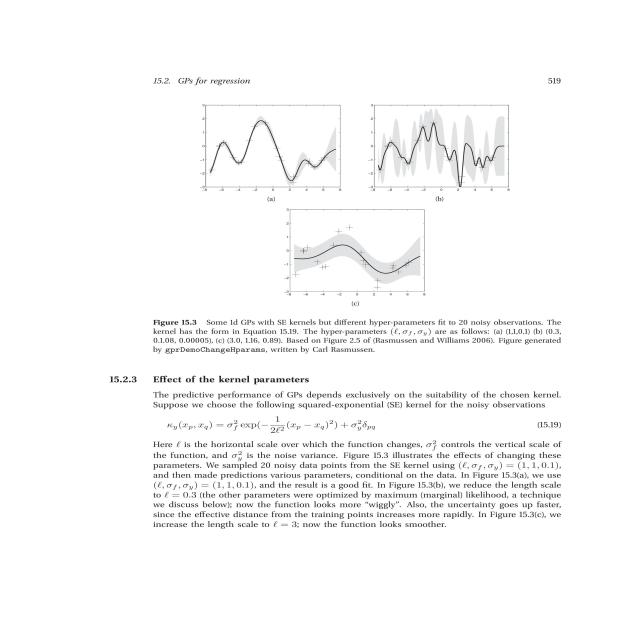diagram: (139, 97, 589, 361)
